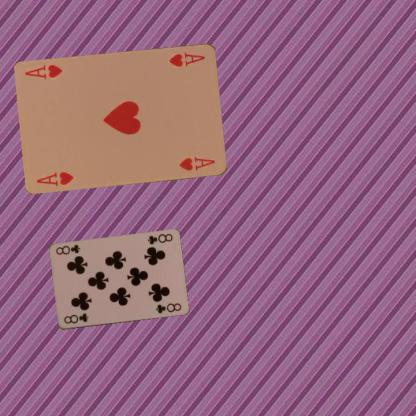8c: (145, 231, 174, 246), (61, 311, 90, 325)
Ah: (165, 49, 206, 68), (34, 169, 75, 187)
